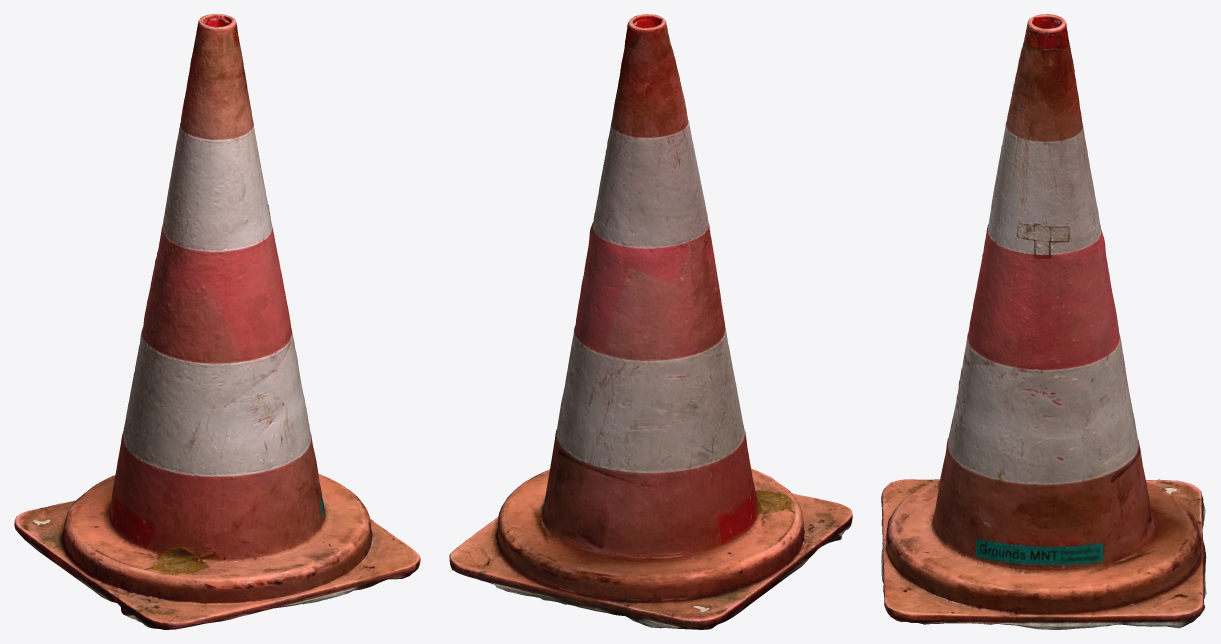
3 views of the same model, side by side, from view 1: azimuth 30°, elevation 25°; view 2: azimuth 150°, elevation 25°; view 3: azimuth 270°, elevation 25° (orthographic). The views are drawn at different scales.
Visible parts, largest first — view 1: mesh_0; view 2: mesh_0; view 3: mesh_0.
Boxes of the visible parts, x1=… form: mesh_0: x1=14, y1=14, x2=420, y2=629; mesh_0: x1=449, y1=14, x2=852, y2=629; mesh_0: x1=881, y1=14, x2=1206, y2=629.
Bounding box in the file's own units: 0.4673 × 0.8477 × 0.4575.
Materials: 1 (1 with a texture image).
